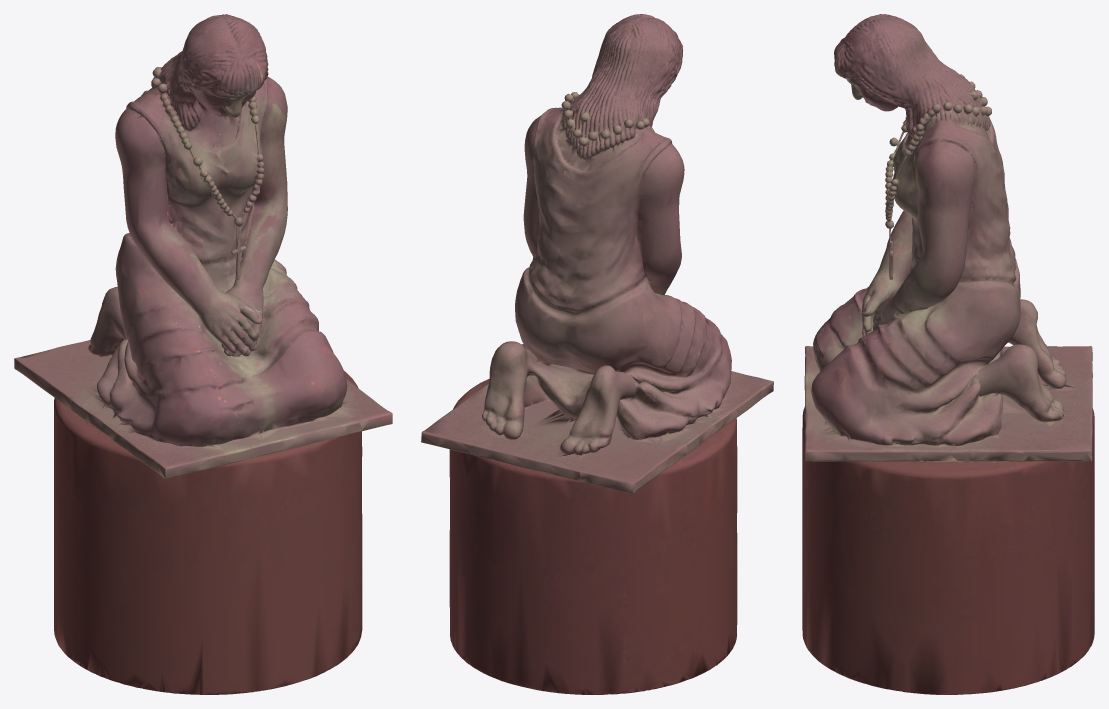
File: nativa_arrodillada.glb
3 views of the same model, side by side, from view 1: azimuth 30°, elevation 25°; view 2: azimuth 150°, elevation 25°; view 3: azimuth 270°, elevation 25° (orthographic). The views are drawn at different scales.
Size of the model in its own units: 0.8308 by 1.9 by 0.8308.
1 material, 1 textured.
